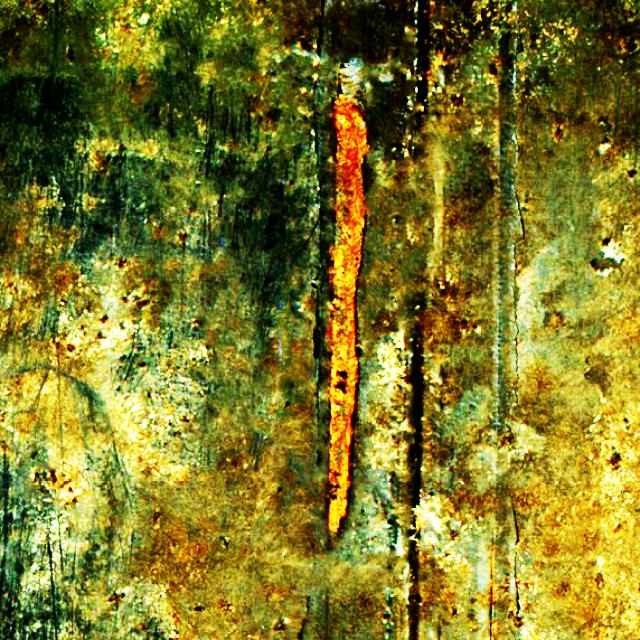Corrosion: (329, 61, 371, 533)
